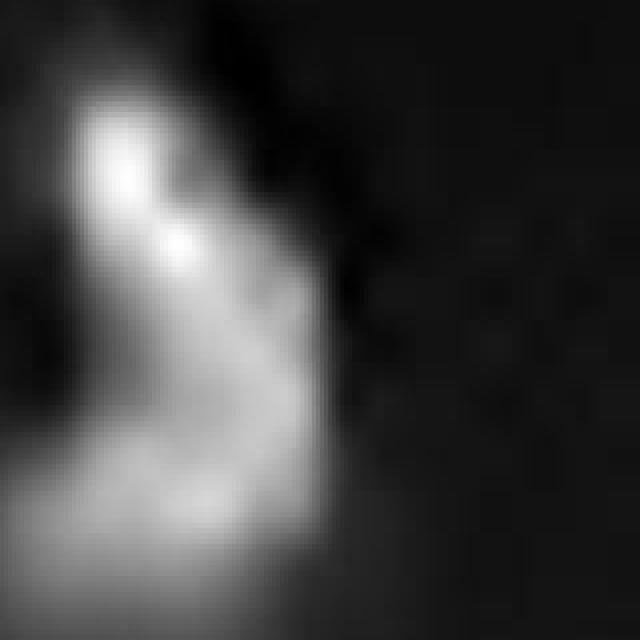person: (1, 76, 313, 630)
